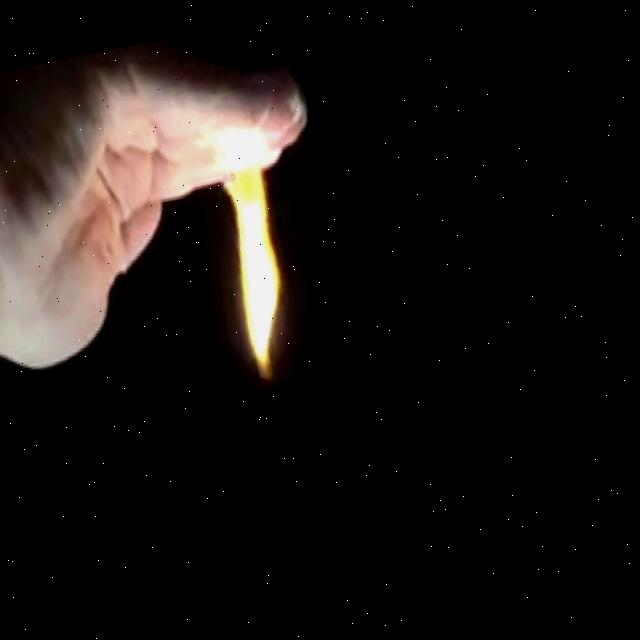Fire: (188, 105, 332, 390)
